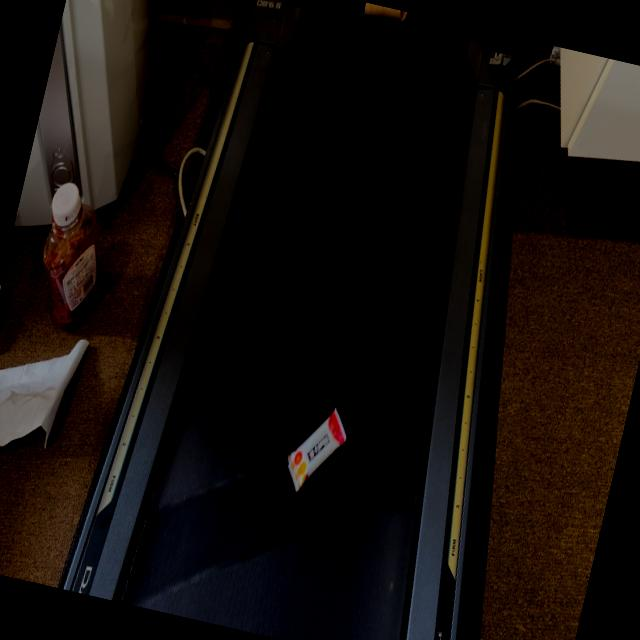Trash: (280, 402, 354, 508)
